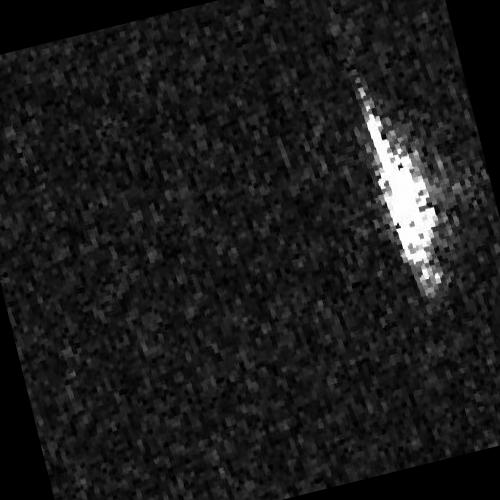ship: (361, 97, 438, 285)
